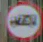Heavy Vehicles: (5, 1, 42, 39)
